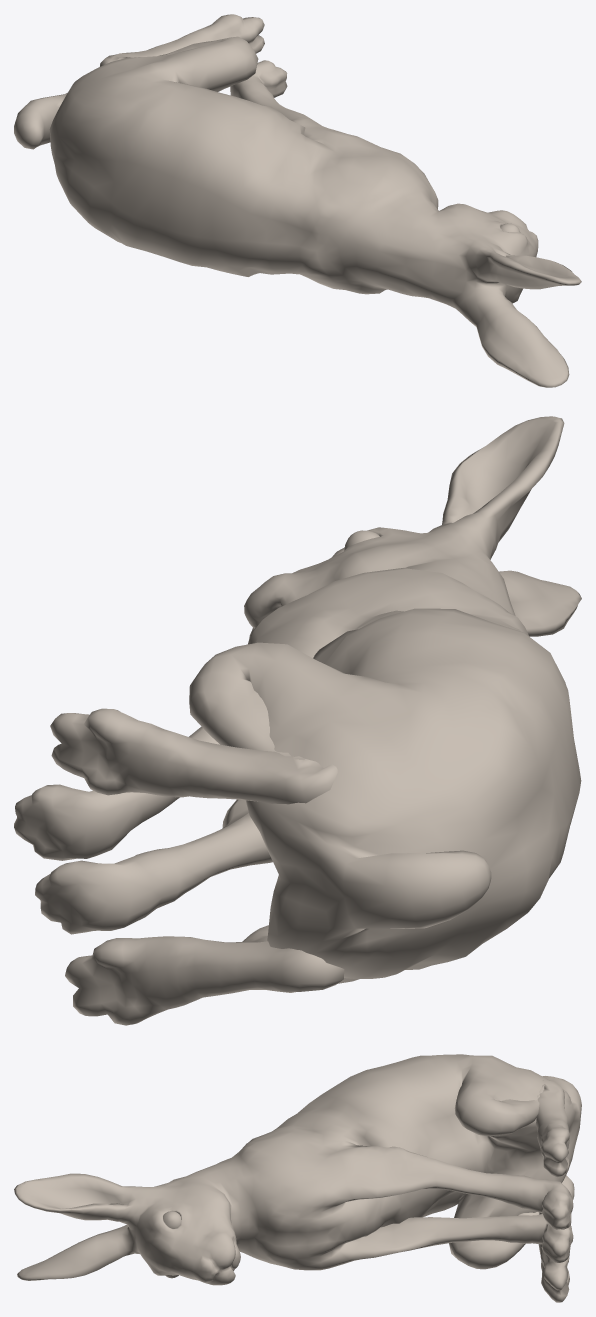
File: pack_rabbit_game.glb
The picture shows the model from 3 angles, top to bottom: view 1: azimuth 30°, elevation 25°; view 2: azimuth 150°, elevation 25°; view 3: azimuth 270°, elevation 25°; orthographic projection. The views are drawn at different scales.
Parts seen in each view (by area): view 1: Rabbit.001_applied_clean_M_Rabbit_0; view 2: Rabbit.001_applied_clean_M_Rabbit_0; view 3: Rabbit.001_applied_clean_M_Rabbit_0.
Boxes of the visible parts, left/top/right/bottom form: Rabbit.001_applied_clean_M_Rabbit_0: left=14, top=14, right=581, bottom=387; Rabbit.001_applied_clean_M_Rabbit_0: left=14, top=416, right=581, bottom=1025; Rabbit.001_applied_clean_M_Rabbit_0: left=14, top=1054, right=581, bottom=1302.
Size of the model in its own units: 39.55 by 23.73 by 66.41.
